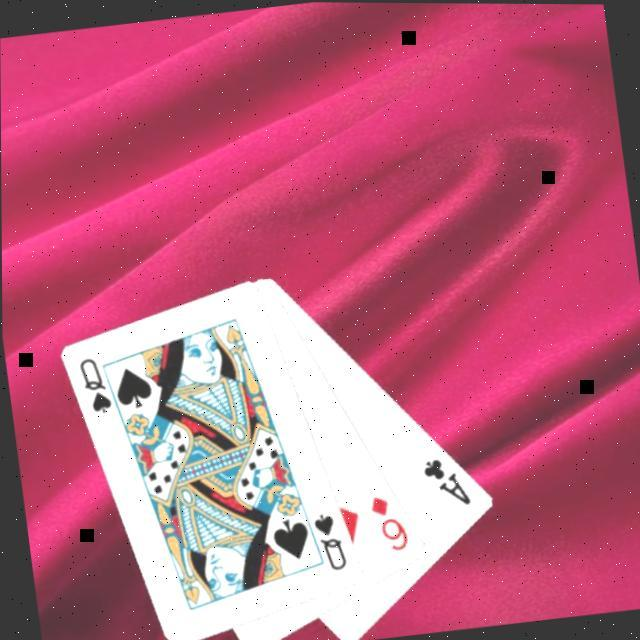6D: (364, 490, 412, 556)
AC: (417, 451, 474, 514)
QS: (308, 508, 350, 576), (74, 352, 114, 420)
